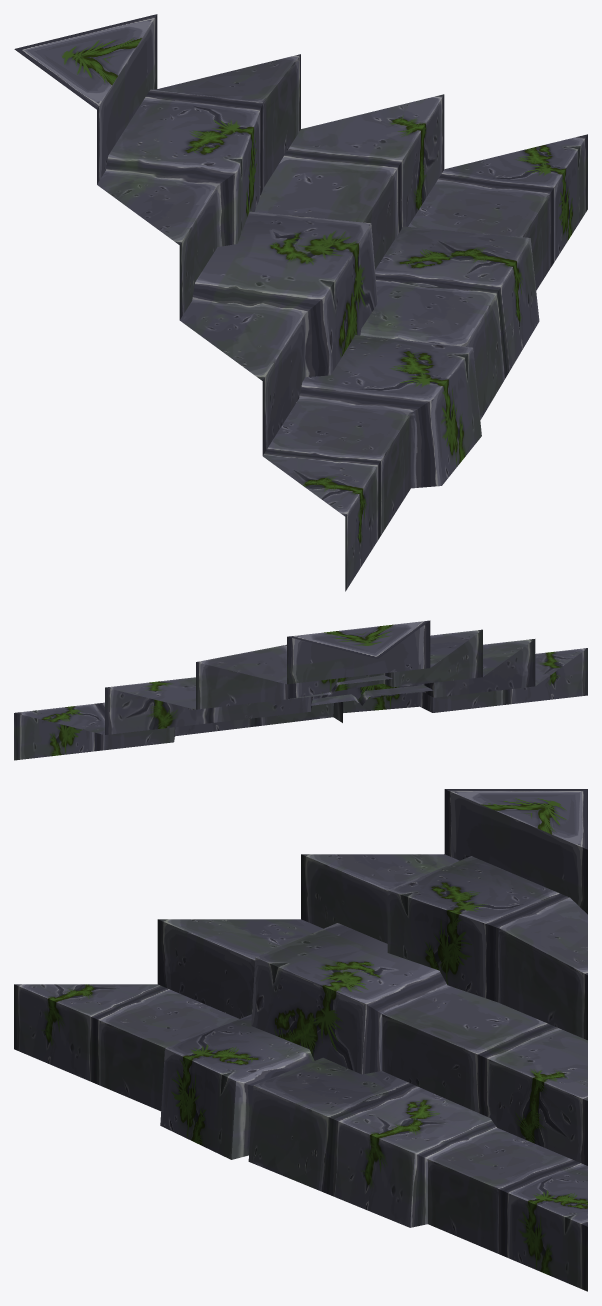
Rendered from MOD_Stairs_01_E_angle_convex_4.fbx.
The picture shows the model from 3 angles, top to bottom: view 1: azimuth 30°, elevation 25°; view 2: azimuth 150°, elevation 25°; view 3: azimuth 270°, elevation 25°; orthographic projection. The views are drawn at different scales.
Parts seen in each view (by area): view 1: MOD_Stairs_01_E_angle_convex_4; view 2: MOD_Stairs_01_E_angle_convex_4; view 3: MOD_Stairs_01_E_angle_convex_4.
Boxes of the visible parts, x1=… form: MOD_Stairs_01_E_angle_convex_4: x1=14, y1=14, x2=587, y2=591; MOD_Stairs_01_E_angle_convex_4: x1=14, y1=620, x2=587, y2=760; MOD_Stairs_01_E_angle_convex_4: x1=14, y1=789, x2=587, y2=1291.
Size of the model in its own units: 200 by 100 by 200.
